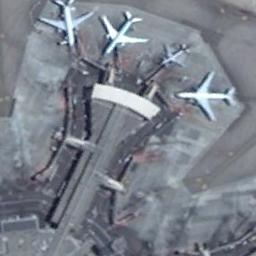Airplane: (178, 70, 240, 124), (30, 0, 94, 51), (98, 10, 148, 58), (159, 42, 193, 70)
